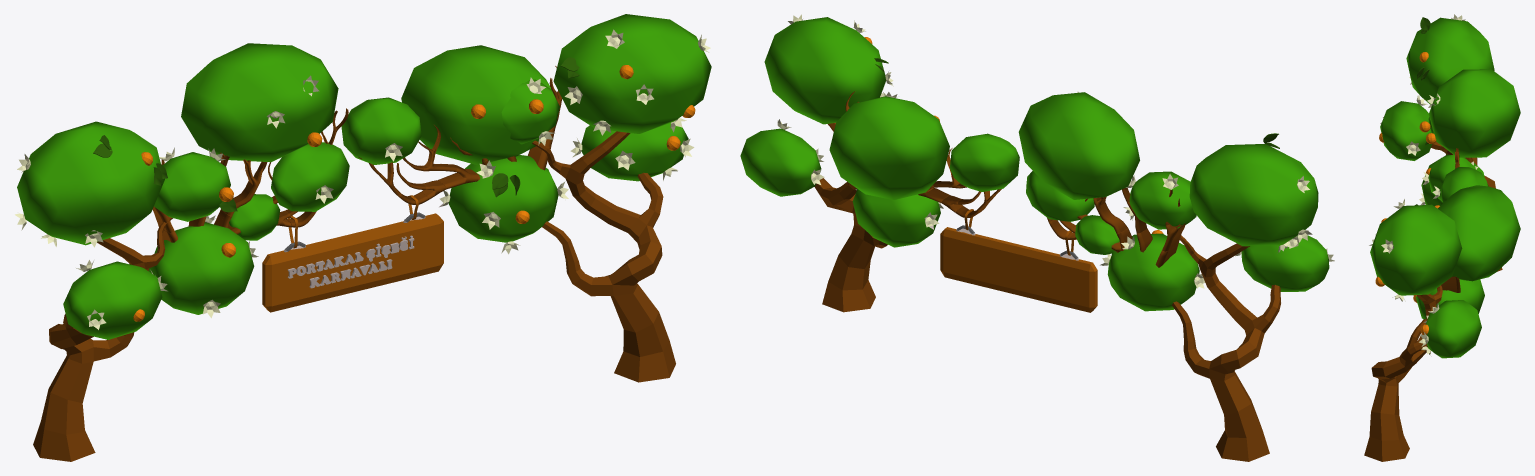
Rendered from orangetree - Copy.fbx.
The picture shows the model from 3 angles, left to right: view 1: azimuth 30°, elevation 25°; view 2: azimuth 150°, elevation 25°; view 3: azimuth 270°, elevation 25°; orthographic projection. The views are drawn at different scales.
Parts seen in each view (by area): view 1: tree; view 2: tree; view 3: tree.
Part boxes in pixels (x1,y1,x2,y2): tree: (15, 14, 711, 461); tree: (740, 14, 1334, 461); tree: (1364, 14, 1520, 461).
Bounding box in the file's own units: 924 × 476 × 258.
